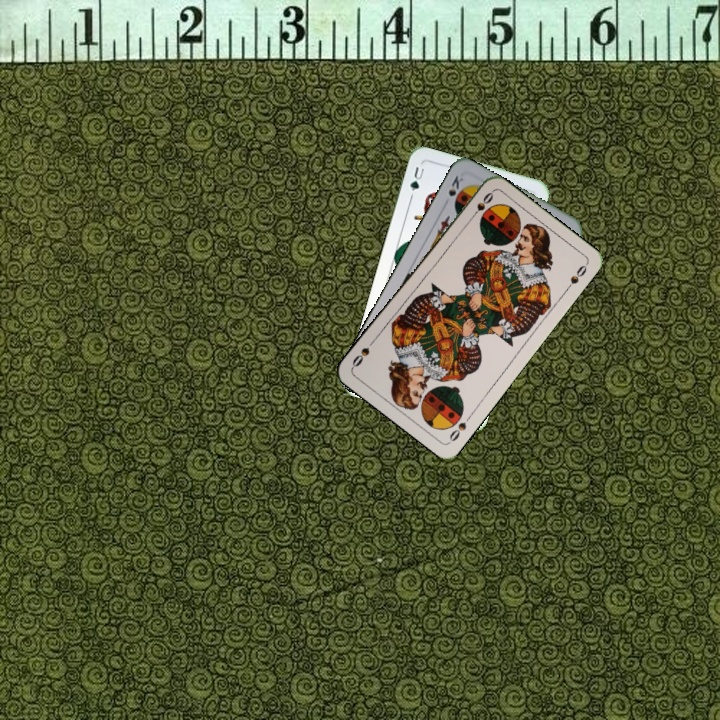GU: (406, 163, 428, 194)
SK: (444, 171, 466, 199)
SO: (466, 188, 496, 223), (445, 410, 475, 444)
